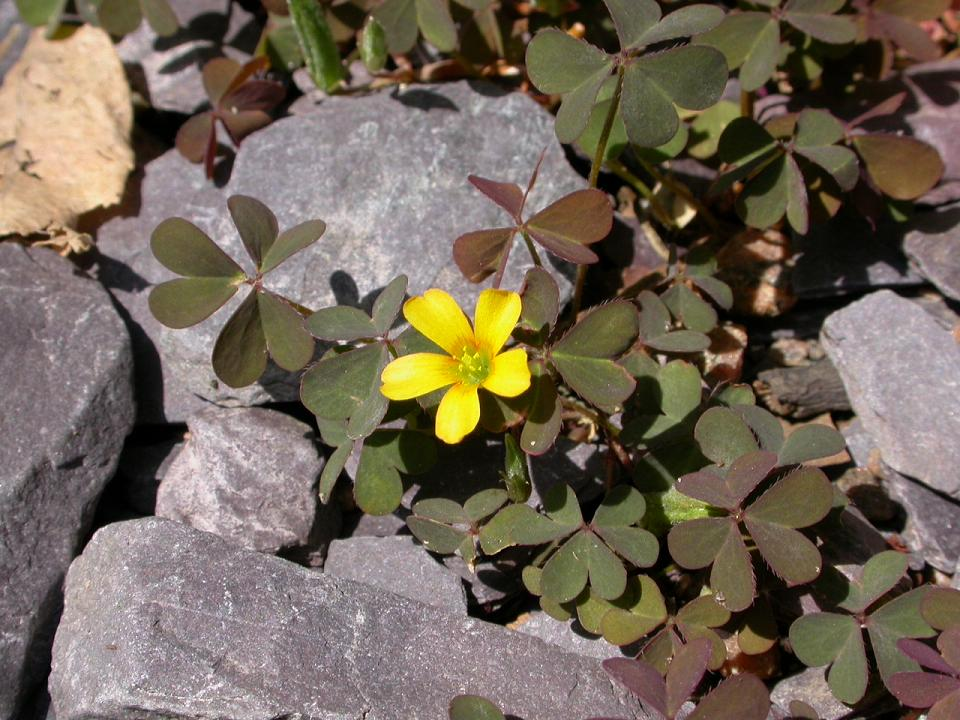oxalis: (120, 113, 882, 655)
